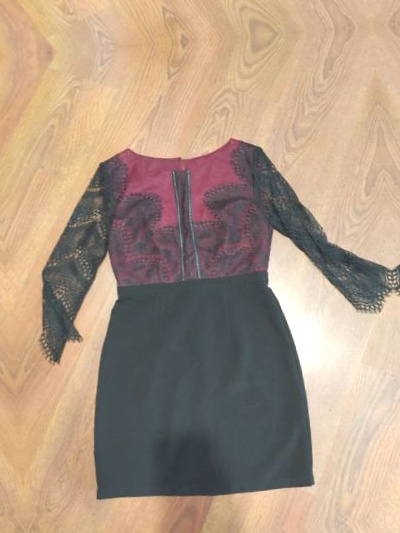Dress: (7, 110, 400, 524), (0, 142, 14, 533), (389, 79, 400, 493)
